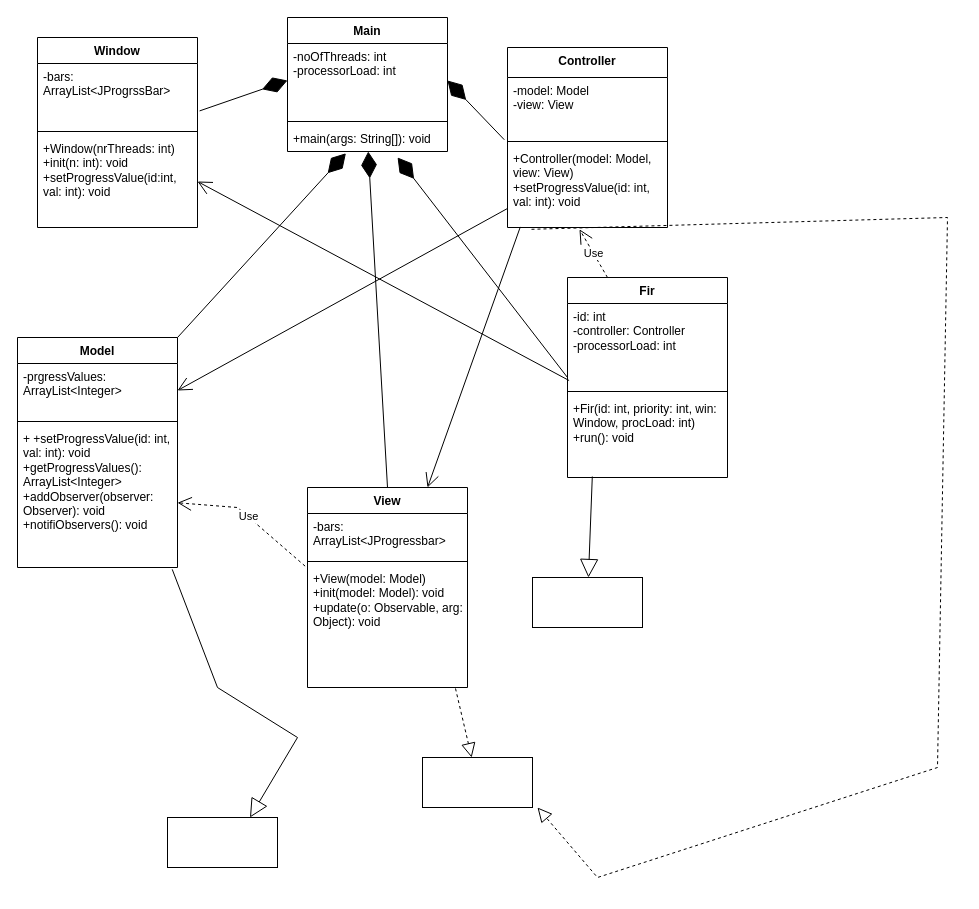
Image size: 979x909. Some labels were removed from this diagram. Here are the shapes that lost their labels. From the top down, the centre of each, then its label:
At pixel 587 602: "Thread".
At pixel 477 782: "Observer".
At pixel 222 842: "Observable".
